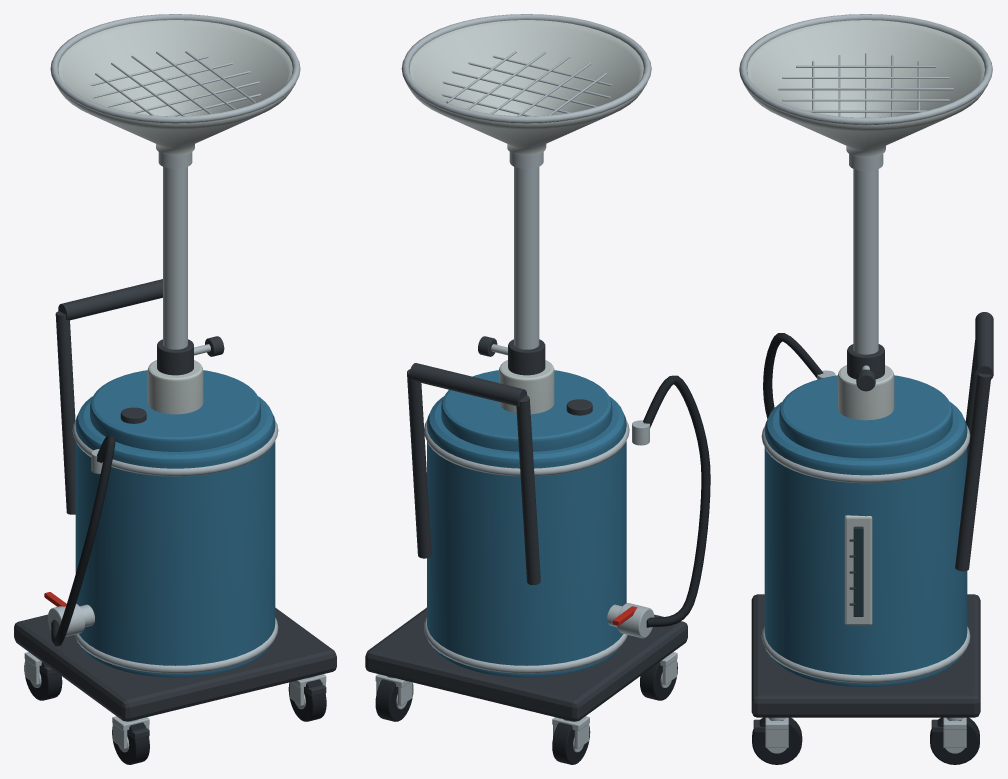
File: city-wheeled-waste-oil-collector.glb
3 renders of one model, left to right at view 1: azimuth 30°, elevation 25°; view 2: azimuth 150°, elevation 25°; view 3: azimuth 270°, elevation 25°, orthographic.
Visible parts, largest first — view 1: Assembly | Deep blue service paint, Assembly | Powder-coated light service metal, Assembly | Dark mechanism trim, Assembly | Brushed exposed steel, Assembly | Rubber feet and hoses; view 2: Assembly | Deep blue service paint, Assembly | Dark mechanism trim, Assembly | Powder-coated light service metal, Assembly | Brushed exposed steel, Assembly | Rubber feet and hoses; view 3: Assembly | Deep blue service paint, Assembly | Powder-coated light service metal, Assembly | Brushed exposed steel, Assembly | Dark mechanism trim, Assembly | Rubber feet and hoses, Assembly | Blank inactive control face.
Part boxes in pixels (left/top/right/bottom): Assembly | Deep blue service paint: left=75, top=370, right=275, bottom=677; Assembly | Powder-coated light service metal: left=56, top=20, right=294, bottom=414; Assembly | Dark mechanism trim: left=14, top=279, right=336, bottom=739; Assembly | Brushed exposed steel: left=24, top=14, right=326, bottom=752; Assembly | Rubber feet and hoses: left=24, top=434, right=326, bottom=764; Assembly | Deep blue service paint: left=427, top=370, right=626, bottom=677; Assembly | Dark mechanism trim: left=365, top=336, right=687, bottom=721; Assembly | Powder-coated light service metal: left=408, top=20, right=645, bottom=414; Assembly | Brushed exposed steel: left=375, top=14, right=677, bottom=752; Assembly | Rubber feet and hoses: left=375, top=375, right=710, bottom=764; Assembly | Deep blue service paint: left=764, top=375, right=967, bottom=686; Assembly | Powder-coated light service metal: left=745, top=20, right=986, bottom=625; Assembly | Brushed exposed steel: left=739, top=14, right=992, bottom=753; Assembly | Dark mechanism trim: left=751, top=312, right=993, bottom=732; Assembly | Rubber feet and hoses: left=752, top=333, right=979, bottom=764; Assembly | Blank inactive control face: left=853, top=526, right=863, bottom=616.
Size of the model in its own units: 0.6698 by 1.63 by 0.578.
